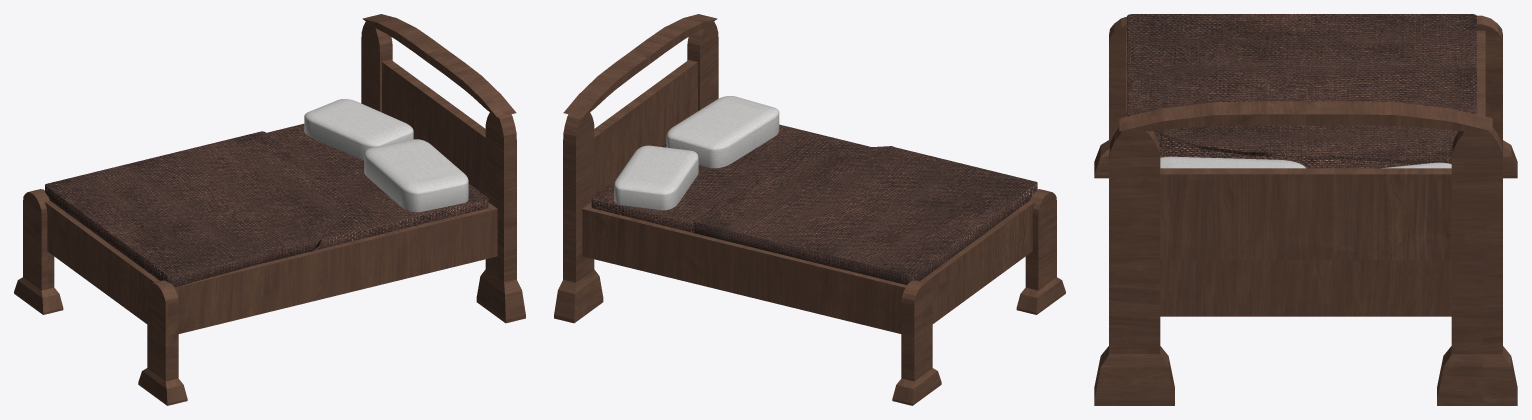
Rendered from bed.fbx.
3 views of the same model, side by side, from view 1: azimuth 30°, elevation 25°; view 2: azimuth 150°, elevation 25°; view 3: azimuth 270°, elevation 25° (orthographic). The views are drawn at different scales.
Parts seen in each view (by area): view 1: Bed, Blanket, Pillows, Matras; view 2: Bed, Blanket, Pillows, Matras; view 3: Bed, Blanket, Matras, Pillows.
Part boxes in pixels (x1,y1,x2,y2): Bed: (14,14,525,405); Blanket: (45,131,340,287); Pillows: (304,99,468,212); Matras: (267,123,488,250); Bed: (554,14,1065,405); Blanket: (693,146,1037,284); Pillows: (614,96,779,210); Matras: (591,124,871,232); Bed: (1094,15,1517,405); Blanket: (1126,14,1476,164); Matras: (1153,130,1416,168); Pillows: (1160,156,1451,168).
Size of the model in its own units: 1567 by 1161 by 883.
4 materials, 4 textured.
